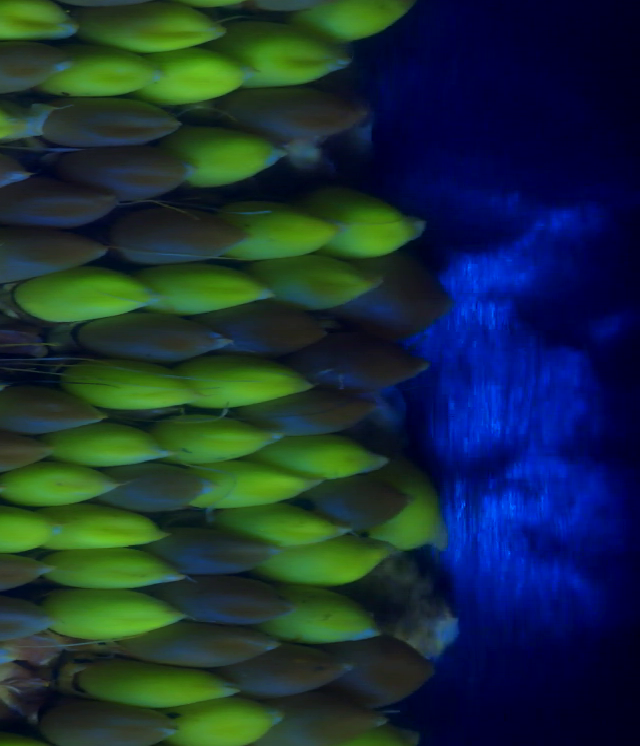fluorescent: (87, 1, 231, 52), (87, 659, 242, 697), (45, 592, 175, 637), (239, 27, 336, 87), (271, 589, 373, 646), (144, 266, 275, 310), (273, 258, 390, 304), (271, 537, 384, 584), (71, 363, 188, 408), (313, 1, 431, 45), (186, 362, 306, 405), (12, 275, 135, 314), (45, 507, 165, 546), (226, 505, 339, 545), (152, 59, 244, 108), (233, 210, 332, 255), (335, 201, 420, 253), (51, 550, 180, 584), (183, 134, 275, 181), (155, 423, 264, 462), (278, 440, 386, 479), (52, 49, 141, 94), (12, 466, 116, 504), (199, 469, 310, 504), (70, 423, 159, 466), (175, 702, 275, 739), (387, 481, 439, 550), (0, 1, 67, 43), (0, 507, 52, 549), (359, 730, 408, 746)
nonfluorescent: (113, 200, 241, 263), (84, 313, 228, 366), (33, 691, 169, 746), (225, 84, 367, 136), (228, 304, 332, 358), (374, 263, 442, 343), (36, 104, 178, 142), (165, 575, 286, 618), (71, 152, 190, 195), (344, 637, 428, 697), (170, 529, 281, 573), (146, 624, 275, 660), (248, 643, 344, 691), (0, 382, 97, 429), (0, 231, 107, 273), (319, 476, 407, 527), (116, 462, 204, 511), (265, 392, 377, 430), (328, 346, 429, 387), (0, 182, 107, 220), (281, 697, 371, 739), (0, 37, 54, 94), (0, 595, 51, 637), (0, 426, 41, 471), (0, 559, 41, 592)
